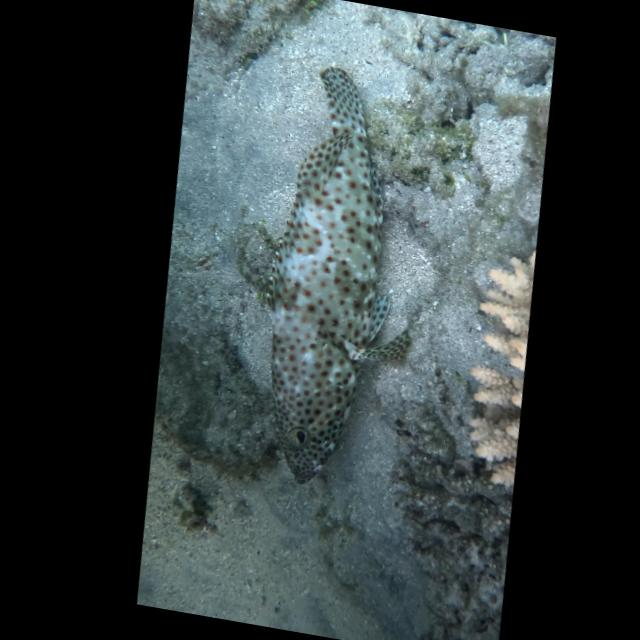Groupers: (214, 53, 469, 495)
